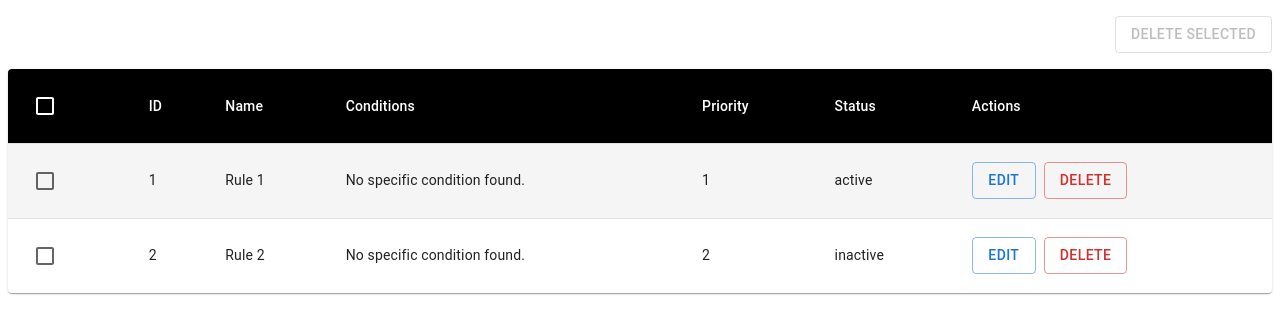
Scenario: CustomizedTables › selects and deselects rows correctly
Click the checkbox next to "ID" at (45, 106), box x1=33 y1=94 x2=57 y2=118
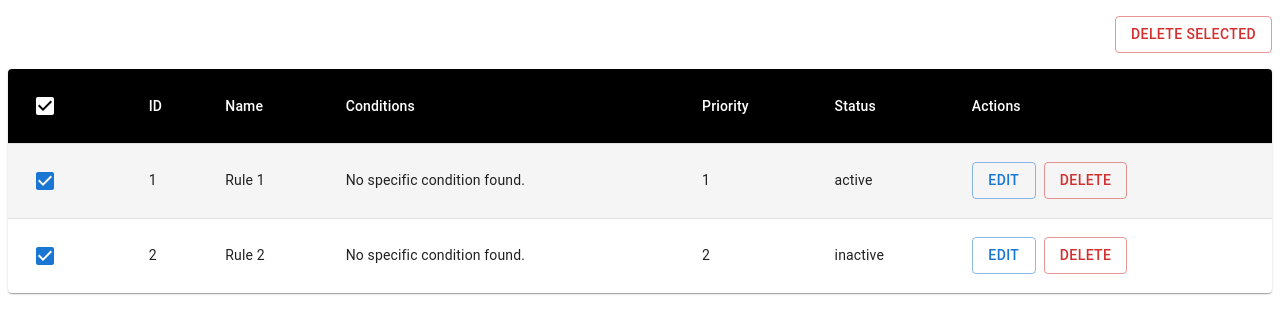
Expected: the checkbox in the row of "Rule 1" is checked, x1=33 y1=168 x2=57 y2=192
Expected: the checkbox in the row of "Rule 2" is checked, x1=33 y1=244 x2=57 y2=268
Click the checkbox next to "ID" at (45, 106), box x1=33 y1=94 x2=57 y2=118
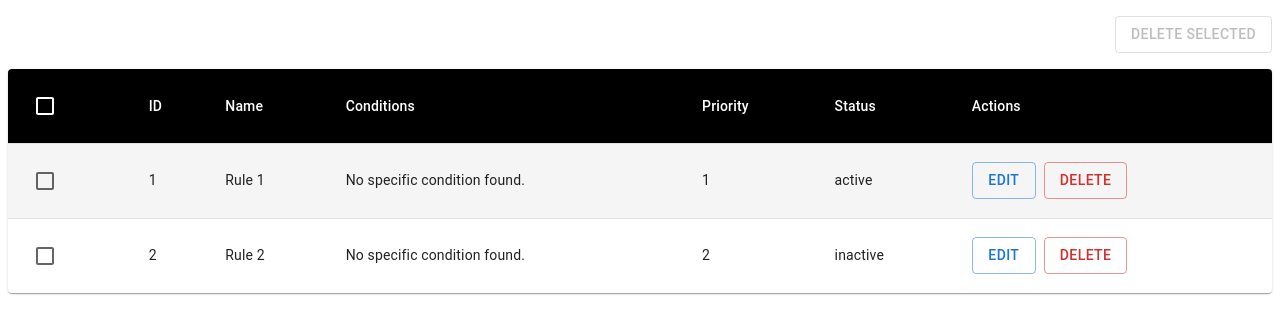
Expected: the checkbox in the row of "Rule 1" is not checked, x1=33 y1=168 x2=57 y2=192
Expected: the checkbox in the row of "Rule 2" is not checked, x1=33 y1=244 x2=57 y2=268
